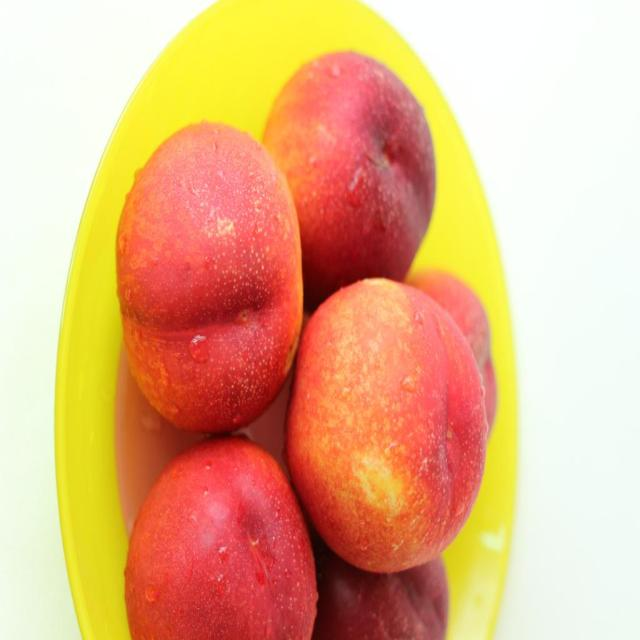Peach: (116, 45, 497, 639)
